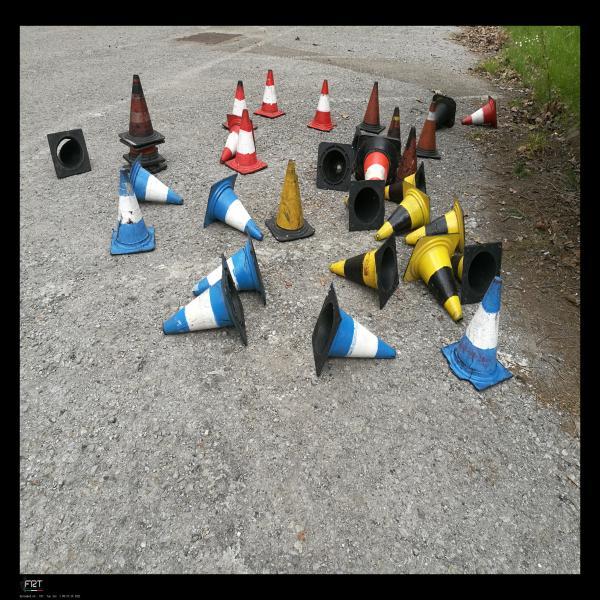blue_cone: (441, 276, 513, 391), (312, 282, 396, 377), (162, 254, 247, 346), (193, 227, 266, 306), (204, 173, 264, 241), (110, 168, 155, 255), (130, 152, 183, 205)
large_orange_cone: (356, 134, 402, 180)
orange_cone: (224, 110, 268, 174), (220, 114, 256, 164), (222, 80, 257, 130), (307, 80, 337, 132), (254, 70, 286, 118), (461, 96, 497, 128)
unknown_cone: (265, 158, 316, 241), (118, 74, 165, 146), (47, 129, 91, 179), (316, 142, 352, 191), (356, 82, 386, 134), (416, 102, 441, 159), (396, 126, 418, 183), (433, 94, 456, 130), (386, 106, 401, 140)
yellow_cone: (403, 232, 463, 324), (330, 231, 399, 309), (405, 194, 466, 252), (374, 180, 430, 241), (451, 241, 502, 305), (344, 180, 386, 231), (384, 162, 426, 203)
